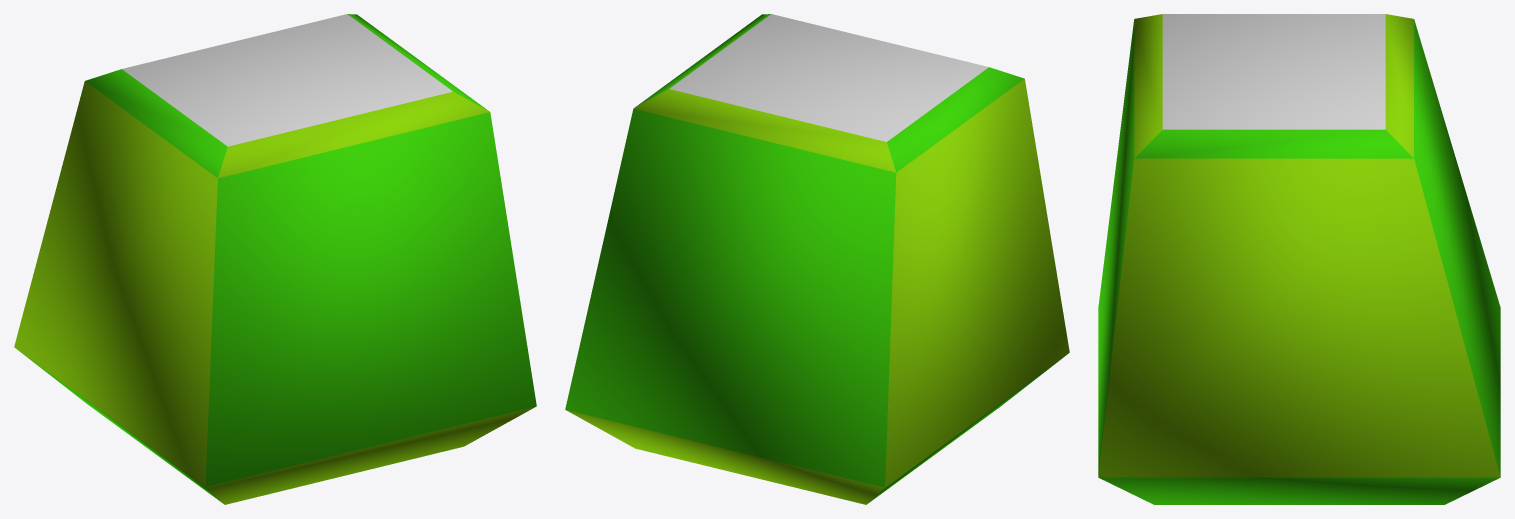
The model's file is watcher.fbx.
3 renders of one model, left to right at view 1: azimuth 30°, elevation 25°; view 2: azimuth 150°, elevation 25°; view 3: azimuth 270°, elevation 25°, orthographic. The views are drawn at different scales.
Parts seen in each view (by area): view 1: Watcher; view 2: Watcher; view 3: Watcher.
Boxes of the visible parts, left/top/right/bottom form: Watcher: left=14, top=14, right=536, bottom=504; Watcher: left=565, top=14, right=1069, bottom=504; Watcher: left=1098, top=14, right=1500, bottom=504.
Bounding box in the file's own units: 0.1965 × 0.2004 × 0.1965.
